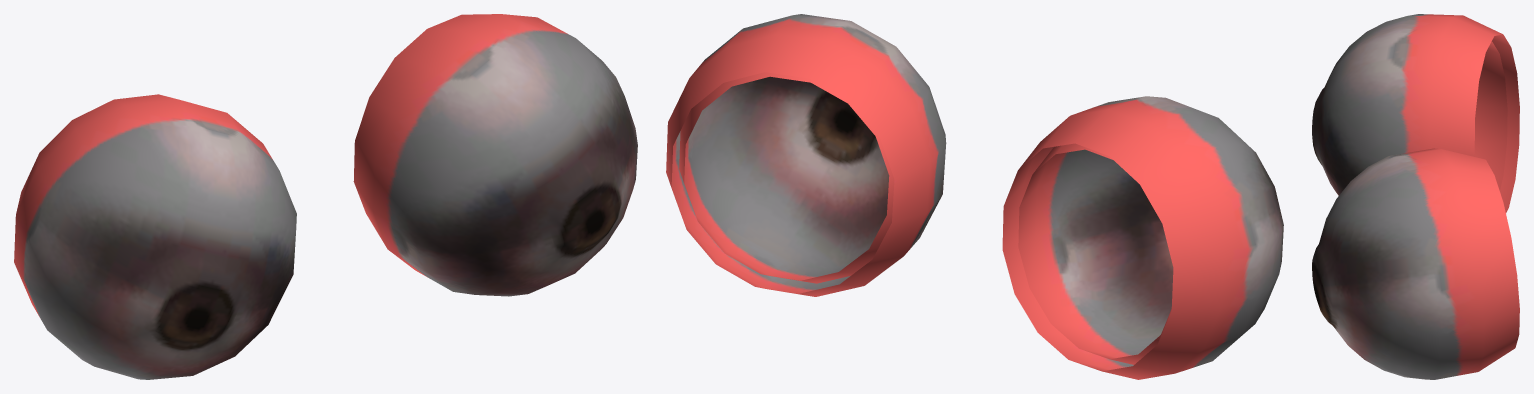
The model's file is eye.dae.
The picture shows the model from 3 angles, left to right: view 1: azimuth 30°, elevation 25°; view 2: azimuth 150°, elevation 25°; view 3: azimuth 270°, elevation 25°; orthographic projection. The views are drawn at different scales.
Visible parts, largest first — view 1: Eye.001; view 2: Eye.001; view 3: Eye.001.
Part boxes in pixels (x1,y1,x2,y2): Eye.001: (14, 14, 637, 379); Eye.001: (666, 14, 1283, 379); Eye.001: (1312, 14, 1519, 379).
Size of the model in its own units: 0.1315 by 0.0495 by 0.0549.
1 material, 1 textured.
